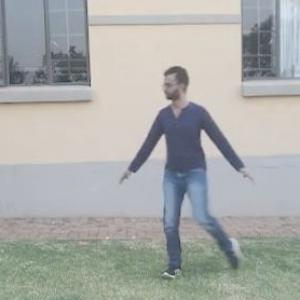land: (122, 74, 254, 247)
